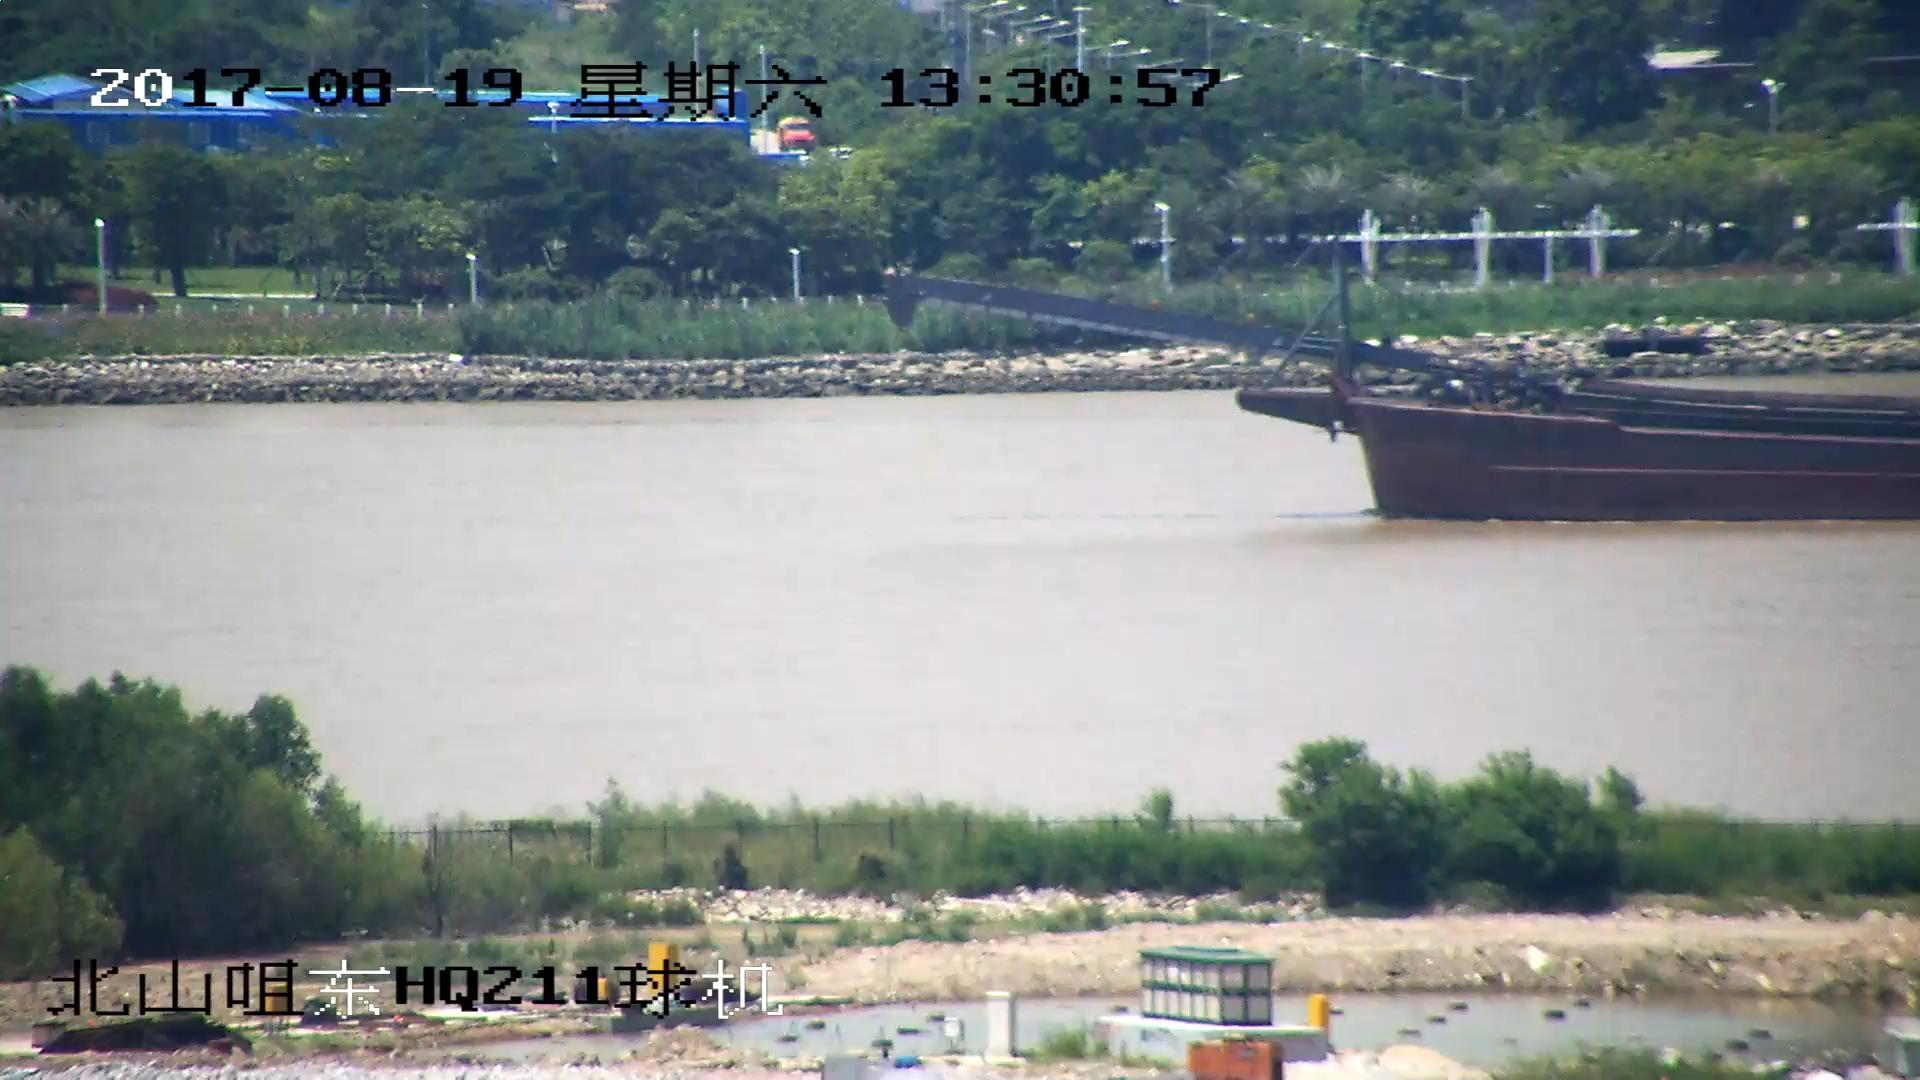bulk cargo carrier: (887, 236, 1920, 525)
